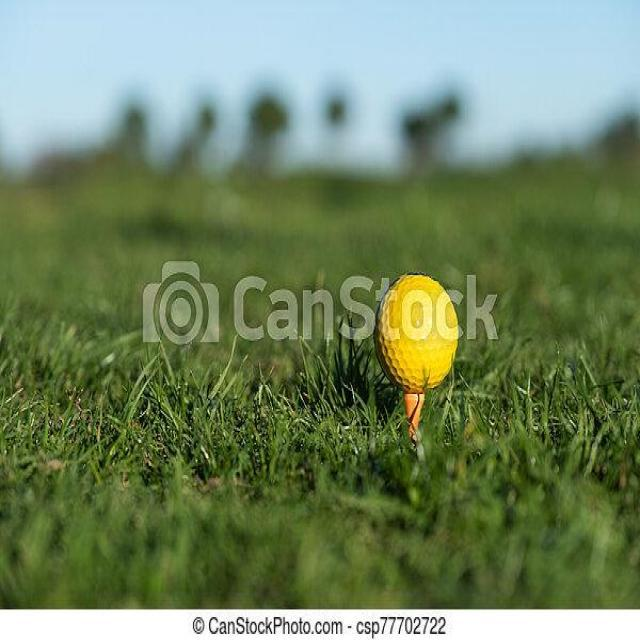golfball: (374, 280, 464, 392)
